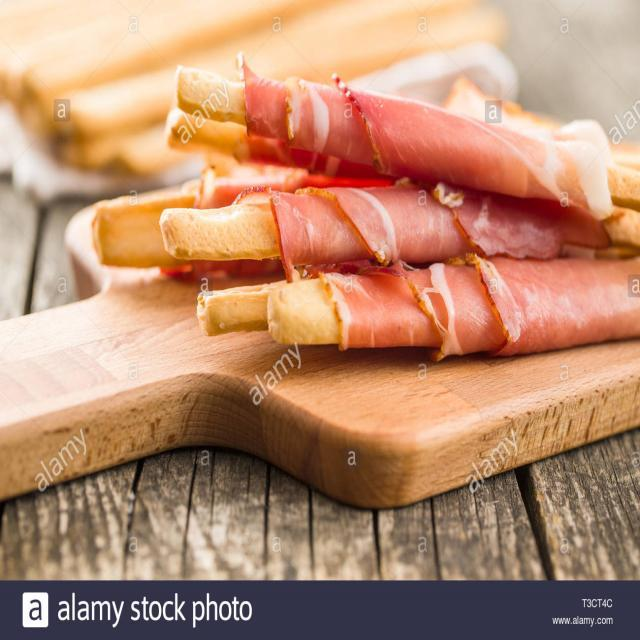Grissini: (80, 61, 640, 358)
